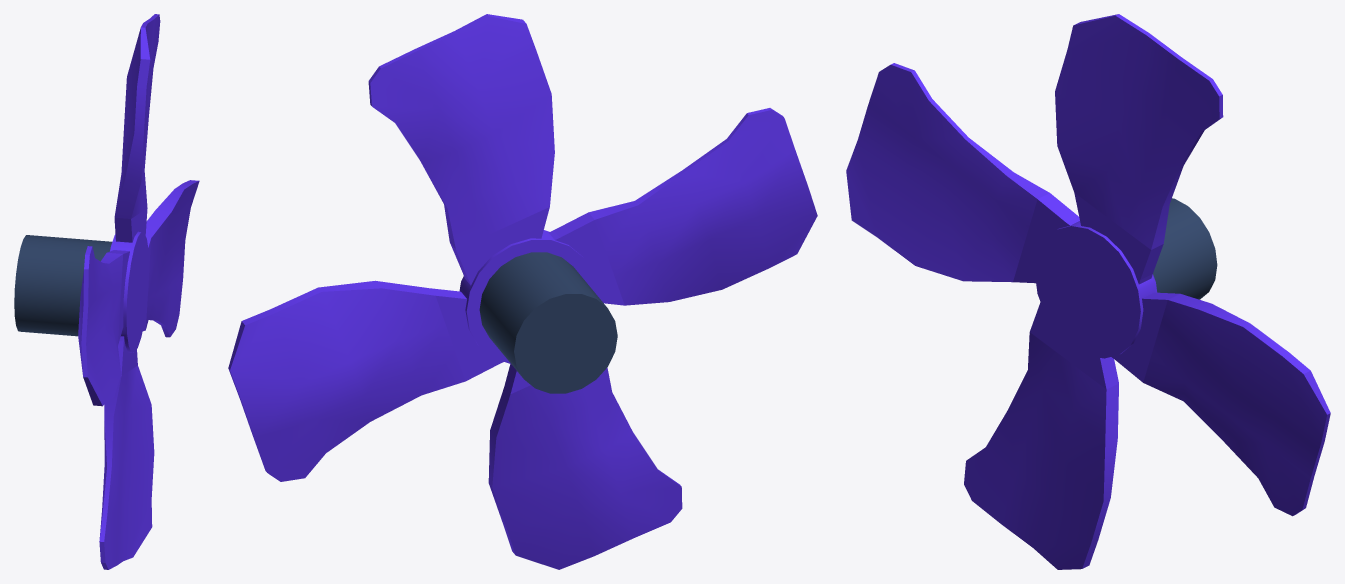
The model's file is hane.obj.
3 views of the same model, side by side, from view 1: azimuth 30°, elevation 25°; view 2: azimuth 150°, elevation 25°; view 3: azimuth 270°, elevation 25° (orthographic). The views are drawn at different scales.
Visible parts, largest first — view 1: pCube5 all_kaiten_, all_kaiten_ pCylinder3; view 2: pCube5 all_kaiten_, all_kaiten_ pCylinder3; view 3: pCube5 all_kaiten_, all_kaiten_ pCylinder3.
Part boxes in pixels (box(x1,y1,x2,y2)): pCube5 all_kaiten_: box(78, 14, 199, 569); all_kaiten_ pCylinder3: box(14, 235, 112, 336); pCube5 all_kaiten_: box(228, 14, 817, 569); all_kaiten_ pCylinder3: box(479, 252, 617, 393); pCube5 all_kaiten_: box(846, 14, 1330, 569); all_kaiten_ pCylinder3: box(1153, 198, 1217, 299).
Size of the model in its own units: 7.46 by 11.32 by 8.65.
